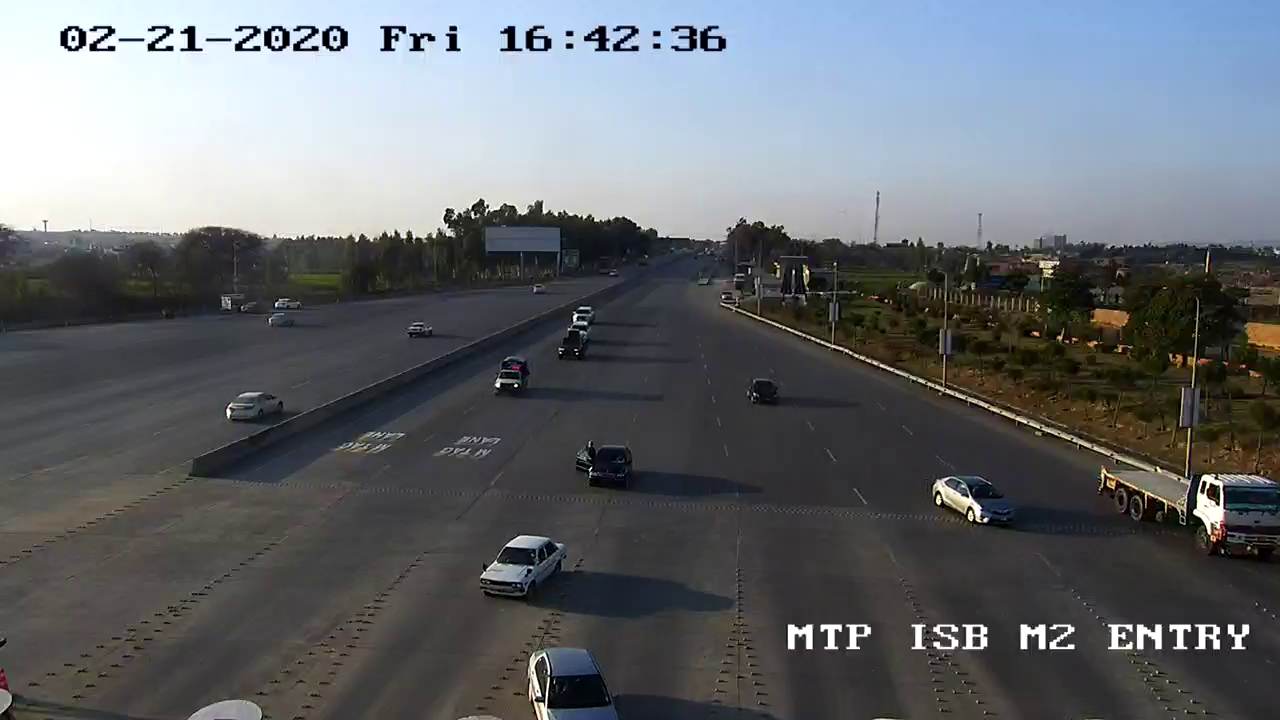f1: (466, 528, 572, 609), (926, 471, 1030, 534)
f5: (1095, 449, 1280, 568)
